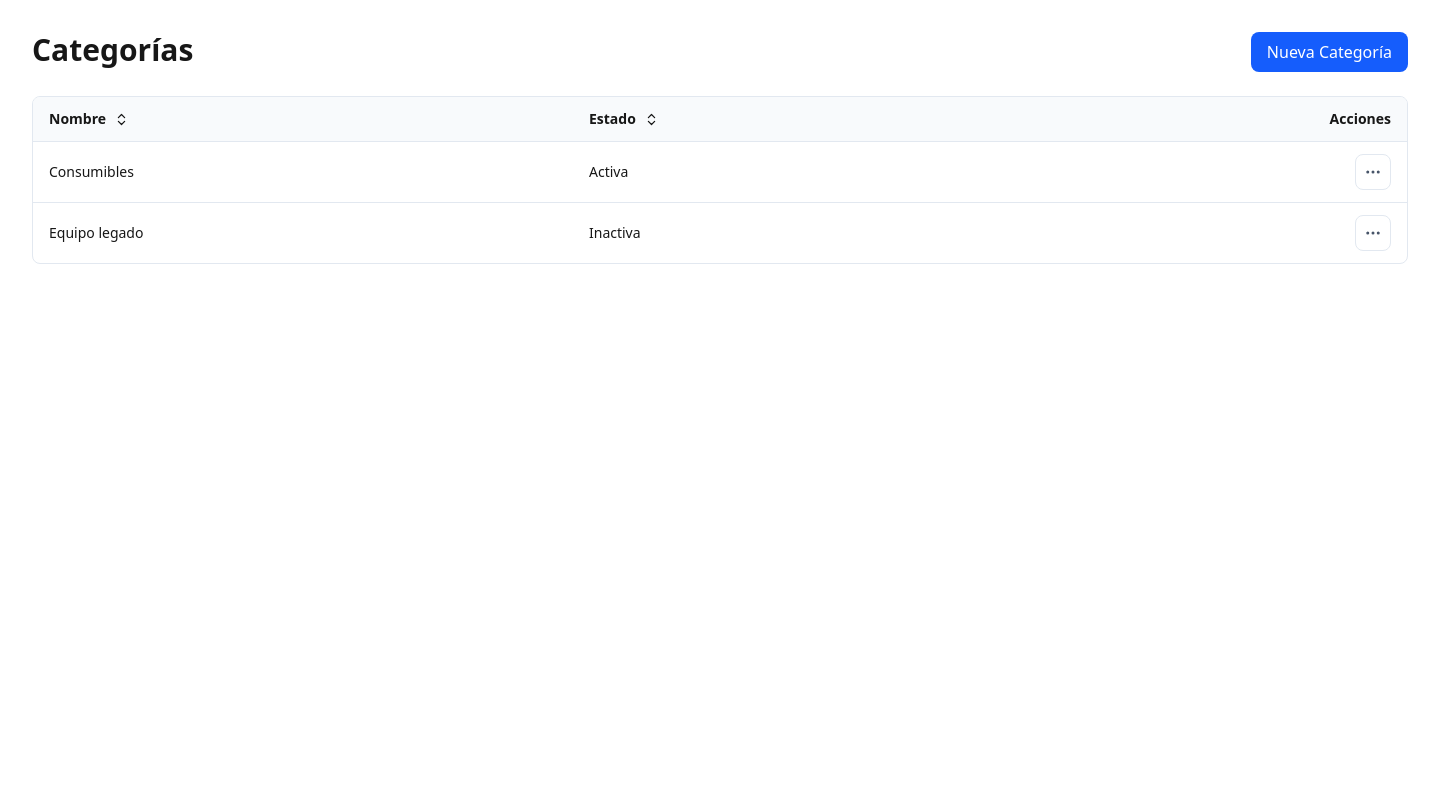
Test: CategoriesPage › deletes a category through the existing confirmation flow
The width and height of the screenshot is (1440, 810).
Expected: the text "Consumibles" is shown, [33,142,573,202]
What coordinates should you click on to do the following:
click the button named "Acciones de Consumibles"
I would click on:
 (1373, 172)
Its box is [1355,154,1391,190].
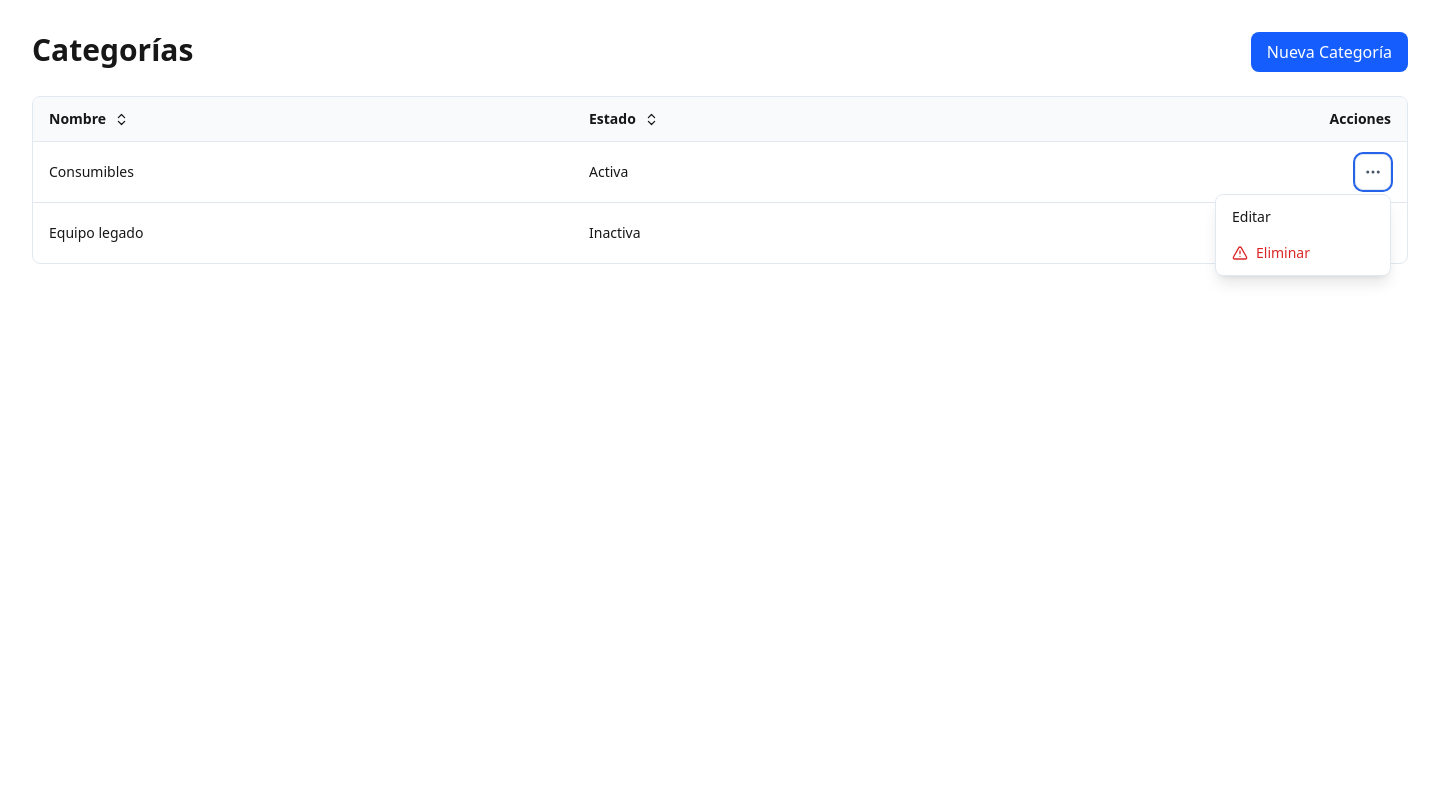
What coordinates should you click on to do the following:
click the menu item with aria-label "Acción destructiva: Eliminar"
I would click on:
 (1303, 253)
Its box is [1220,235,1386,271].
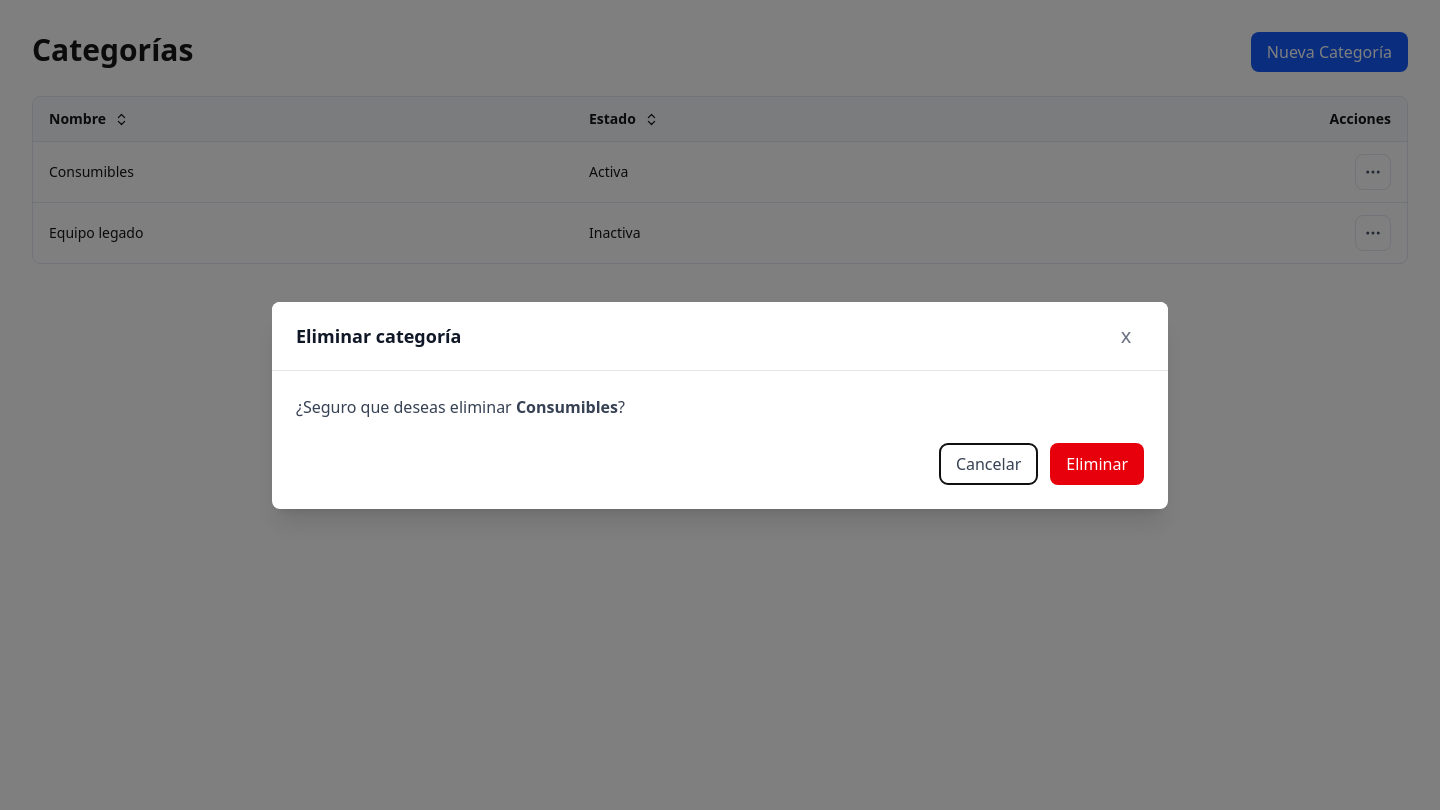
What coordinates should you click on to do the following:
click the button "Eliminar"
I would click on:
 (1097, 464)
Its box is [1050,442,1144,484].
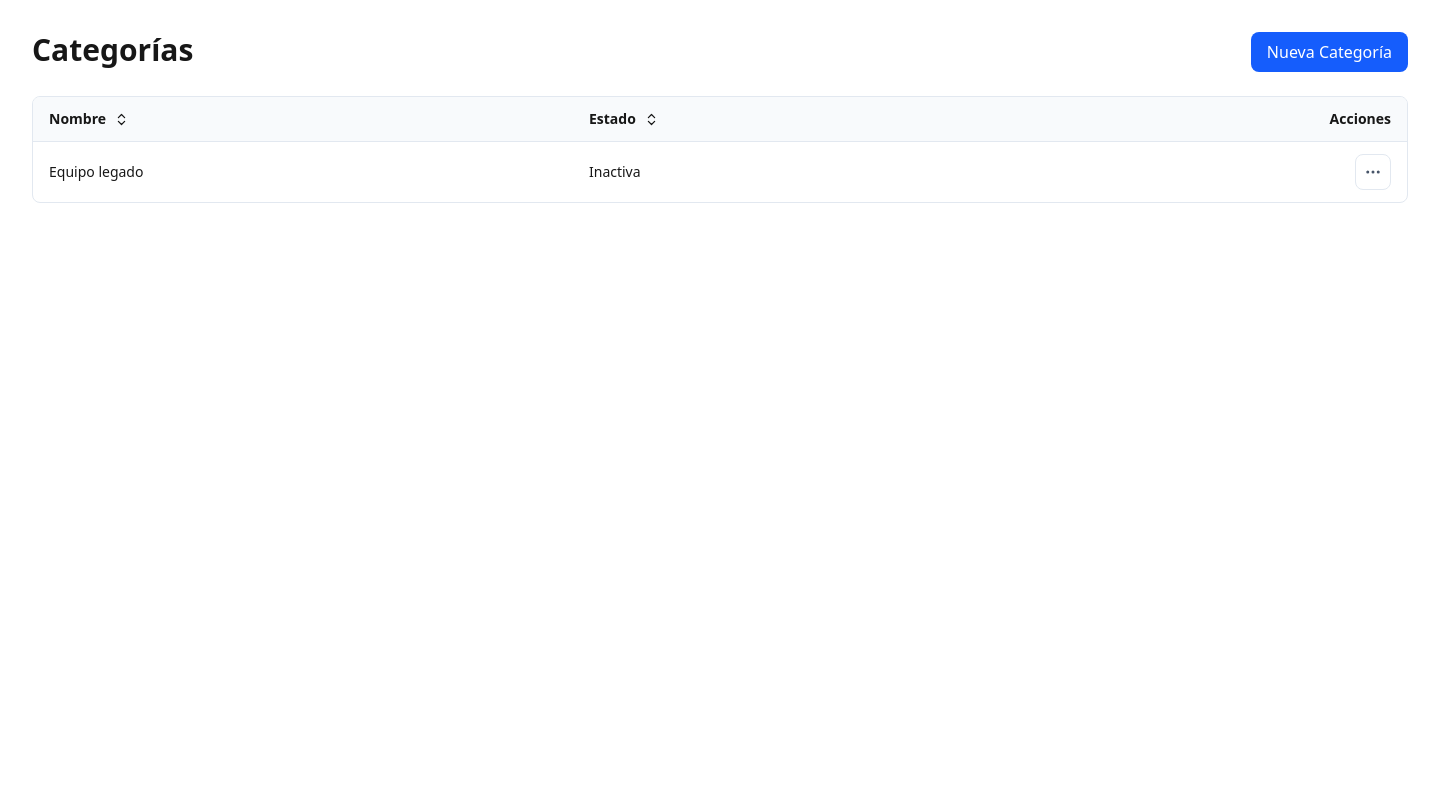
Now the text "Consumibles" is gone
